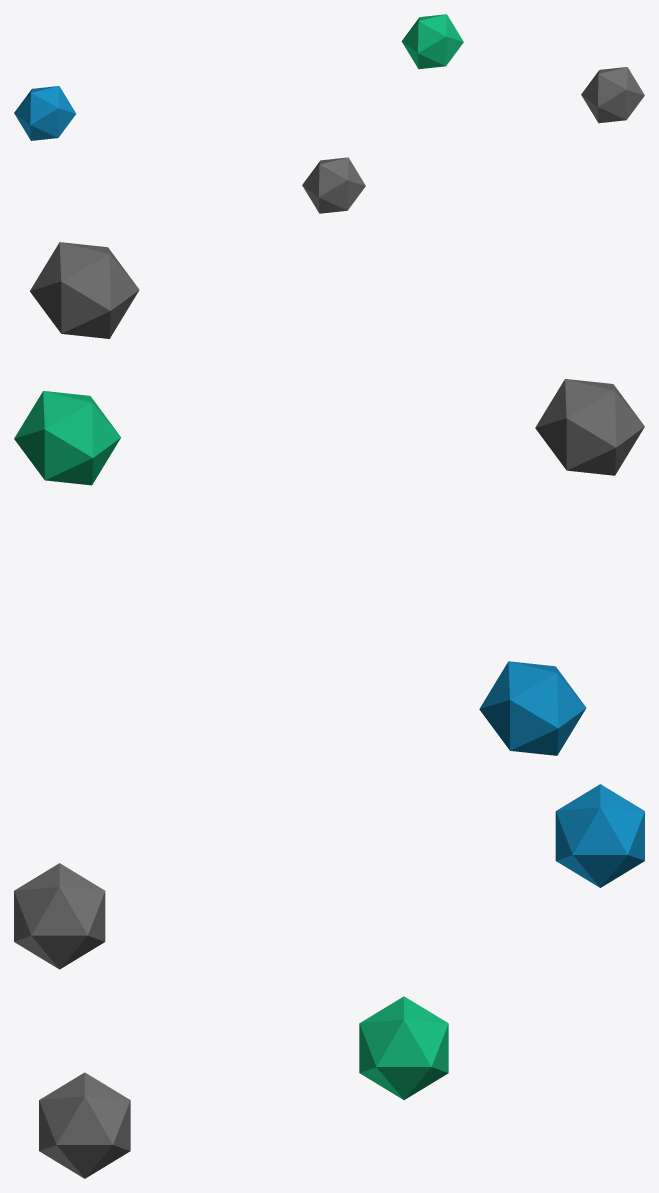
The picture shows the model from 3 angles, top to bottom: view 1: azimuth 30°, elevation 25°; view 2: azimuth 150°, elevation 25°; view 3: azimuth 270°, elevation 25°; orthographic projection. The views are drawn at different scales.
Visible parts, largest first — view 1: 08_03_00; view 2: 08_03_00; view 3: 08_03_00.
Boxes of the visible parts, left/top/right/bottom form: 08_03_00: left=14, top=14, right=644, bottom=213; 08_03_00: left=14, top=242, right=644, bottom=755; 08_03_00: left=14, top=784, right=644, bottom=1178.
Bounding box in the file's own units: 0.5437 × 0.0928 × 0.384.
